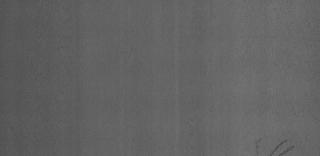water spot: (252, 131, 297, 156)
